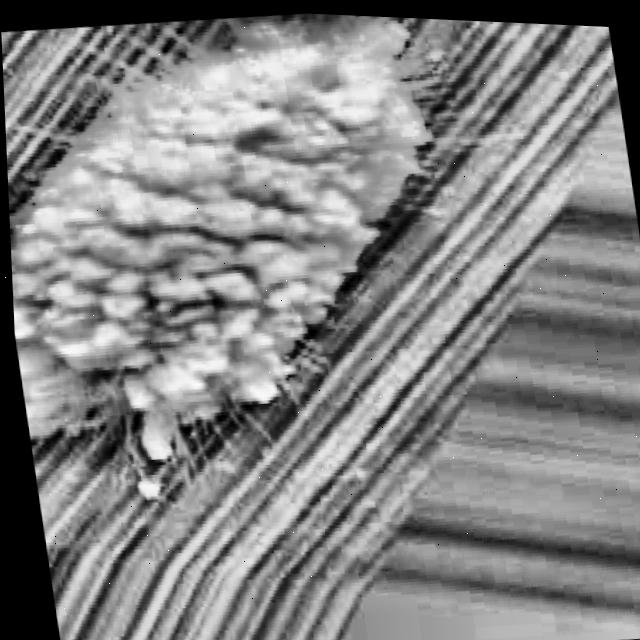Mealy-bug: (0, 0, 524, 577)
